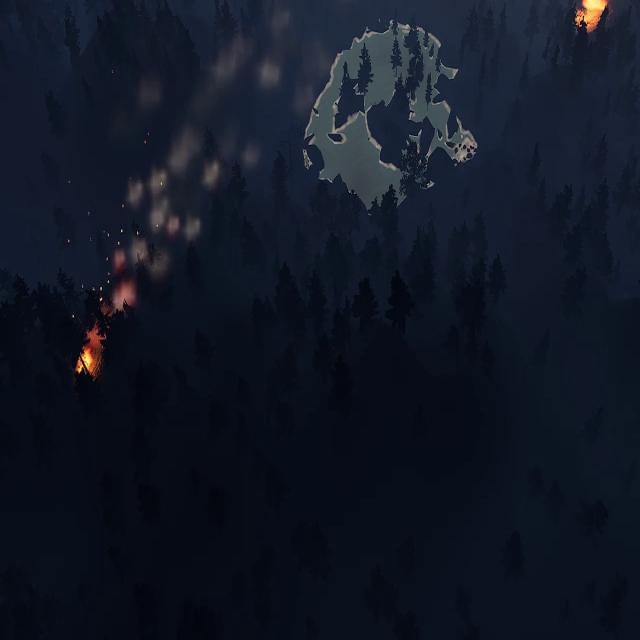fire: (78, 327, 104, 377), (579, 0, 610, 28)
smoke: (103, 4, 304, 312)
